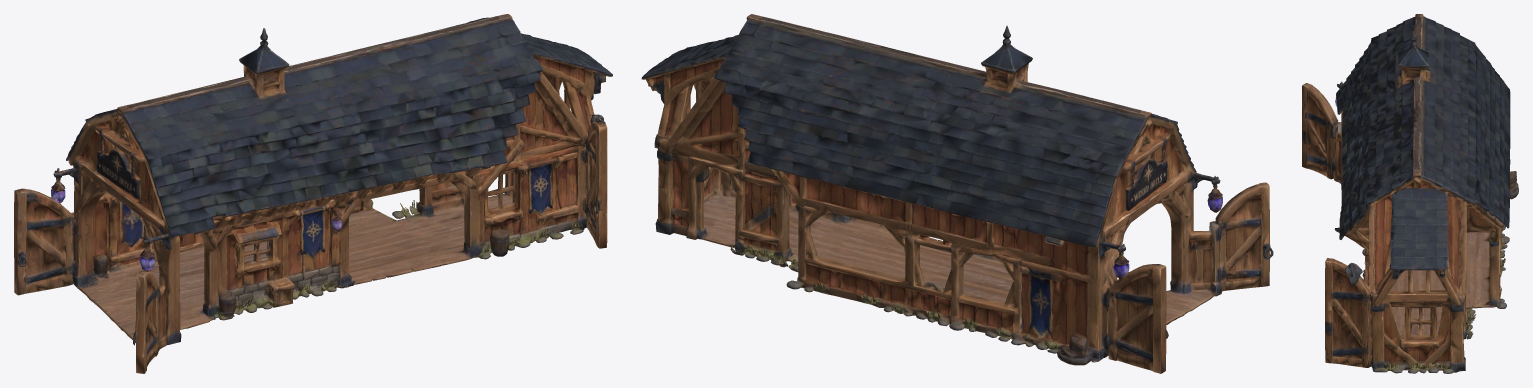
The model's file is barn.glb.
3 renders of one model, left to right at view 1: azimuth 30°, elevation 25°; view 2: azimuth 150°, elevation 25°; view 3: azimuth 270°, elevation 25°, orthographic. The views are drawn at different scales.
Size of the model in its own units: 1.89 by 0.8607 by 0.7824.
Materials: 1 (1 with a texture image).
